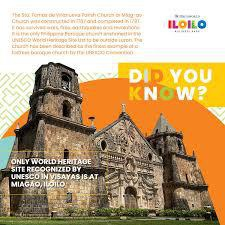miagao_church_miagao_iloilo: (6, 57, 213, 215)
